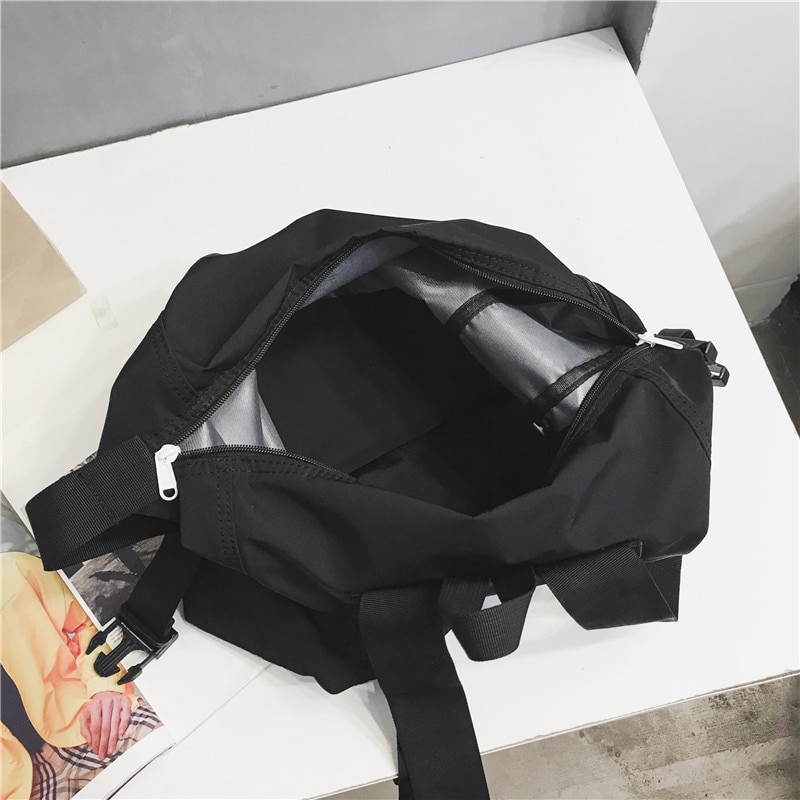Men's Backpacks: (25, 208, 729, 800)
